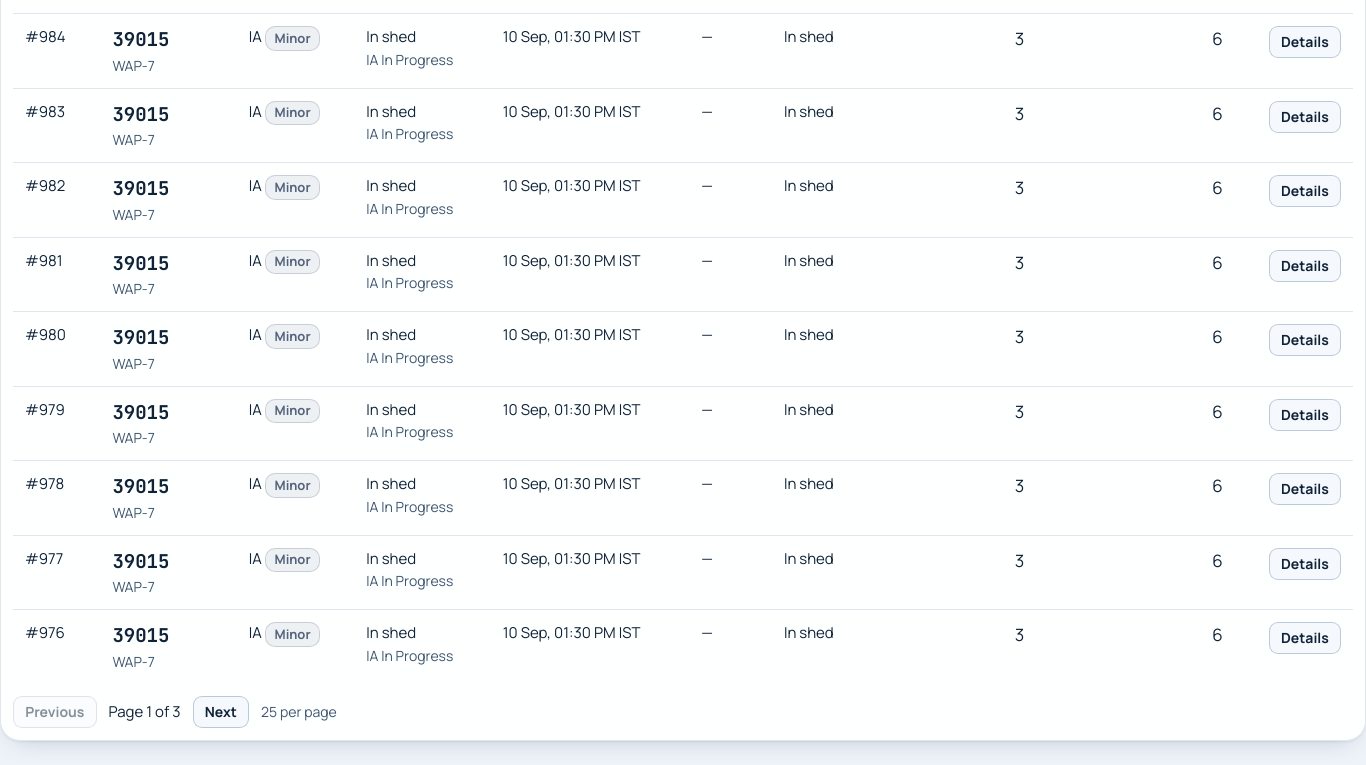
Test: Shed Visit History - the list › pages on the server
(page scrolled)
Expected: the text "Page 1 of 3" is shown, [109,701,181,723]
Expected: the button "Previous" is disabled, [13,696,97,728]
Click the button "Next" at (221, 712), box [193,696,249,728]
(page scrolled)
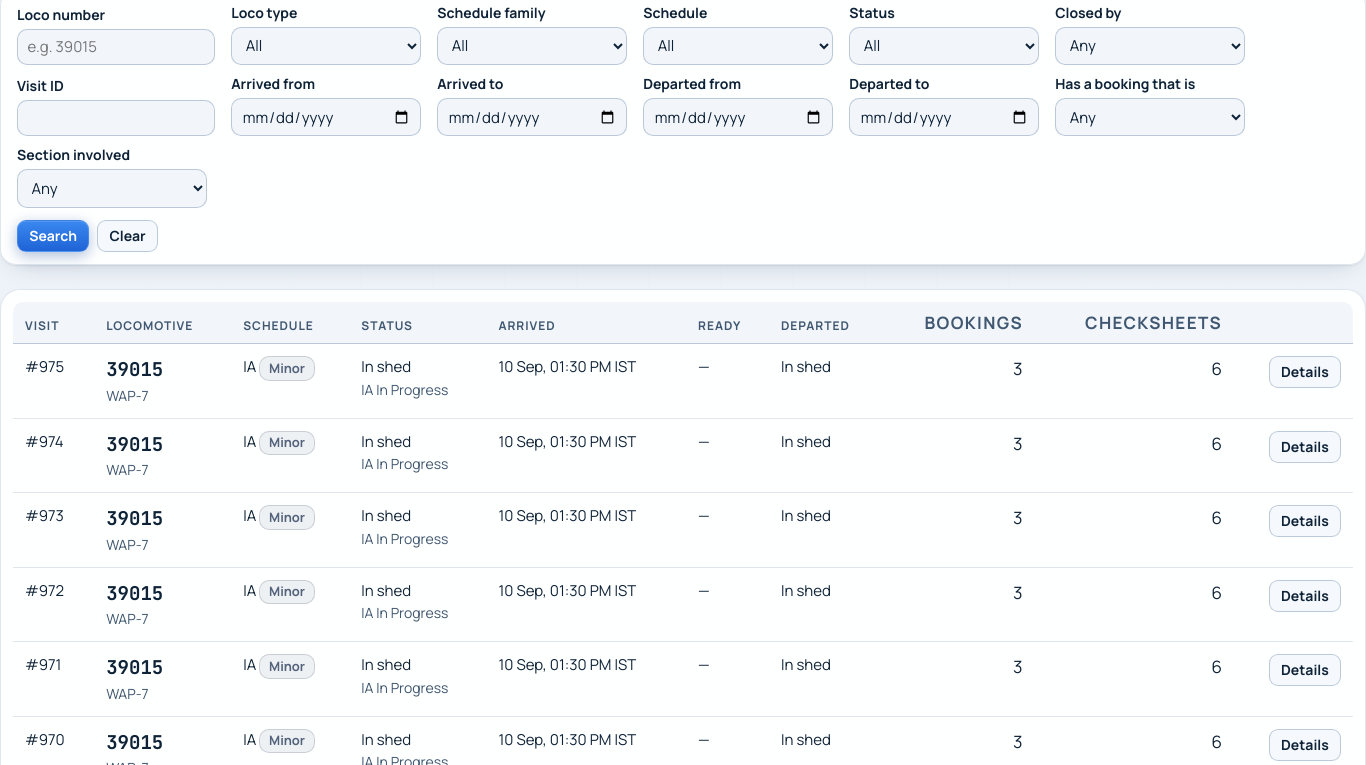
Expected: the text "#975" is shown, [13,344,94,418]
